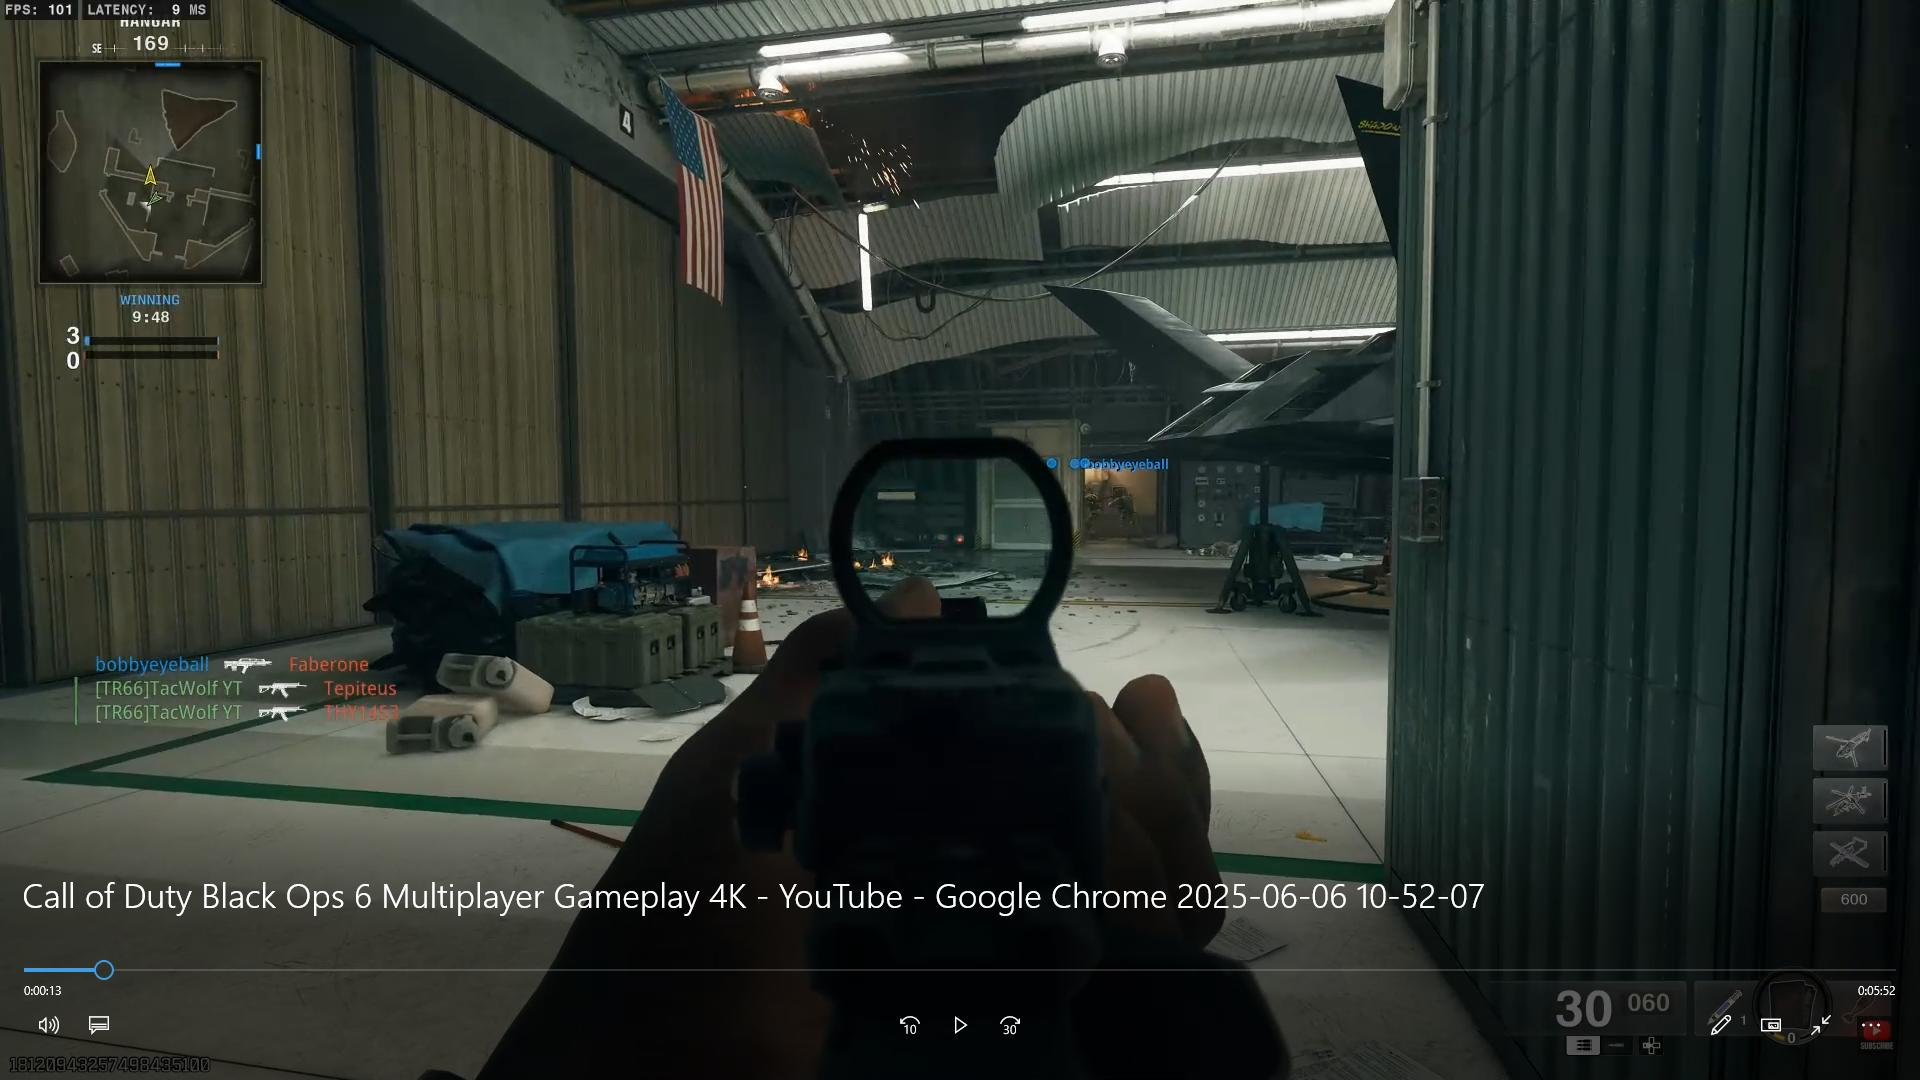Enemy: (1100, 481, 1154, 550)
